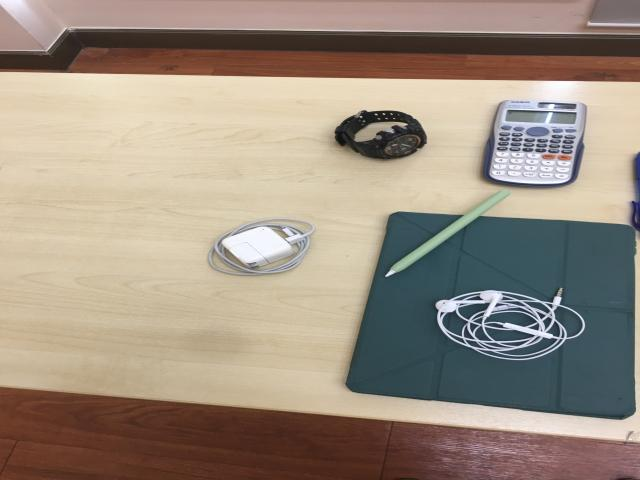Pen: (631, 150, 640, 231)
Watch: (333, 110, 429, 162)
wire: (431, 287, 589, 365), (207, 219, 316, 278)
